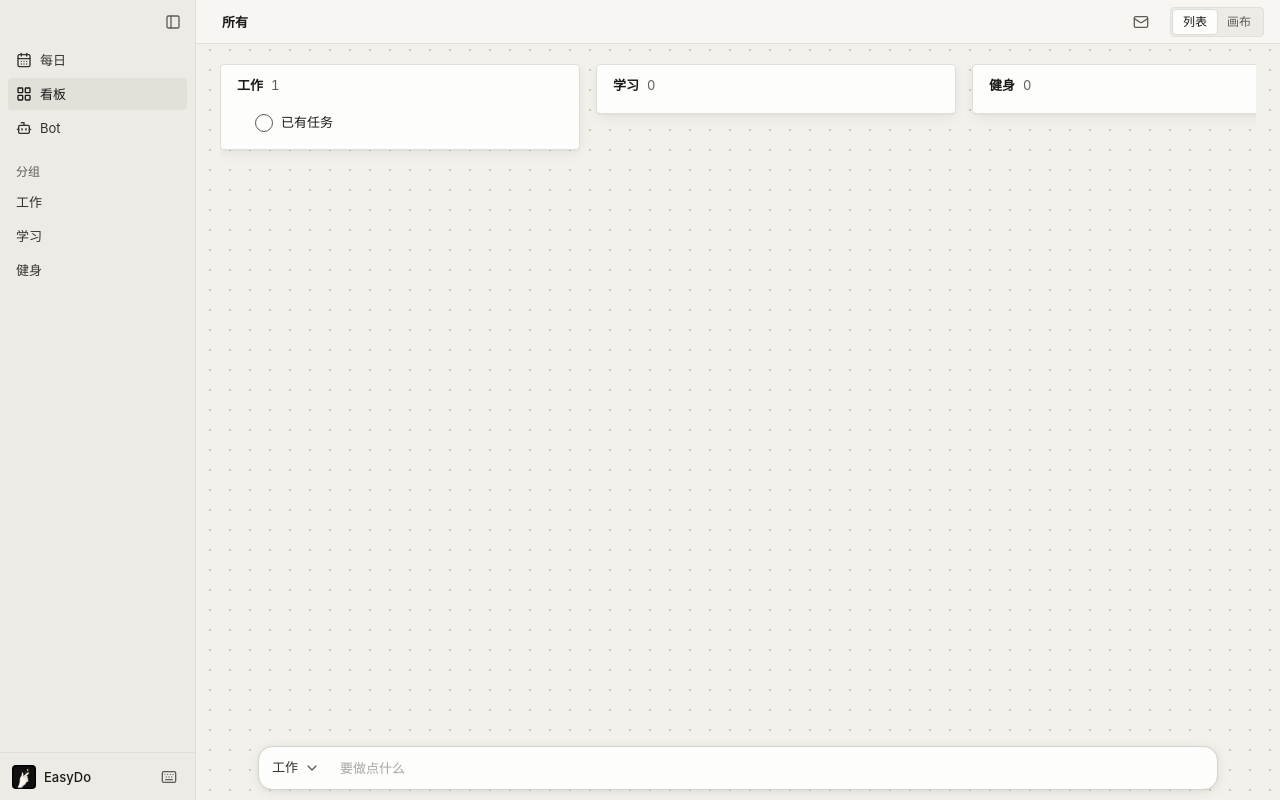
Test: BoardPage › turns the current editing line into a completed checklist item with Command Shift S
Check: the text "已有任务" is shown, box x1=281 y1=114 x2=333 y2=130
Double-click the button "已有任务": (294, 123) x1=255 y1=114 x2=333 y2=132
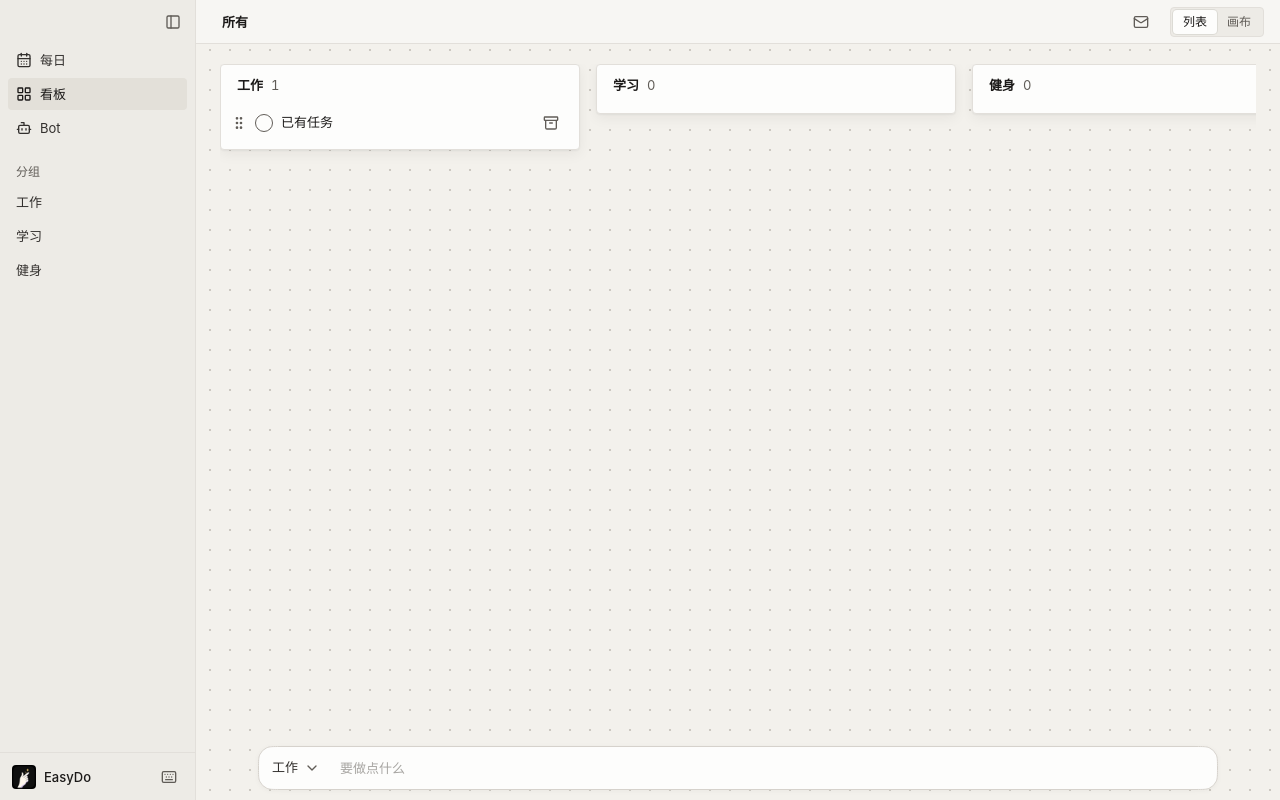
Press s in the text box showing "已有任务", box x1=281 y1=113 x2=529 y2=131
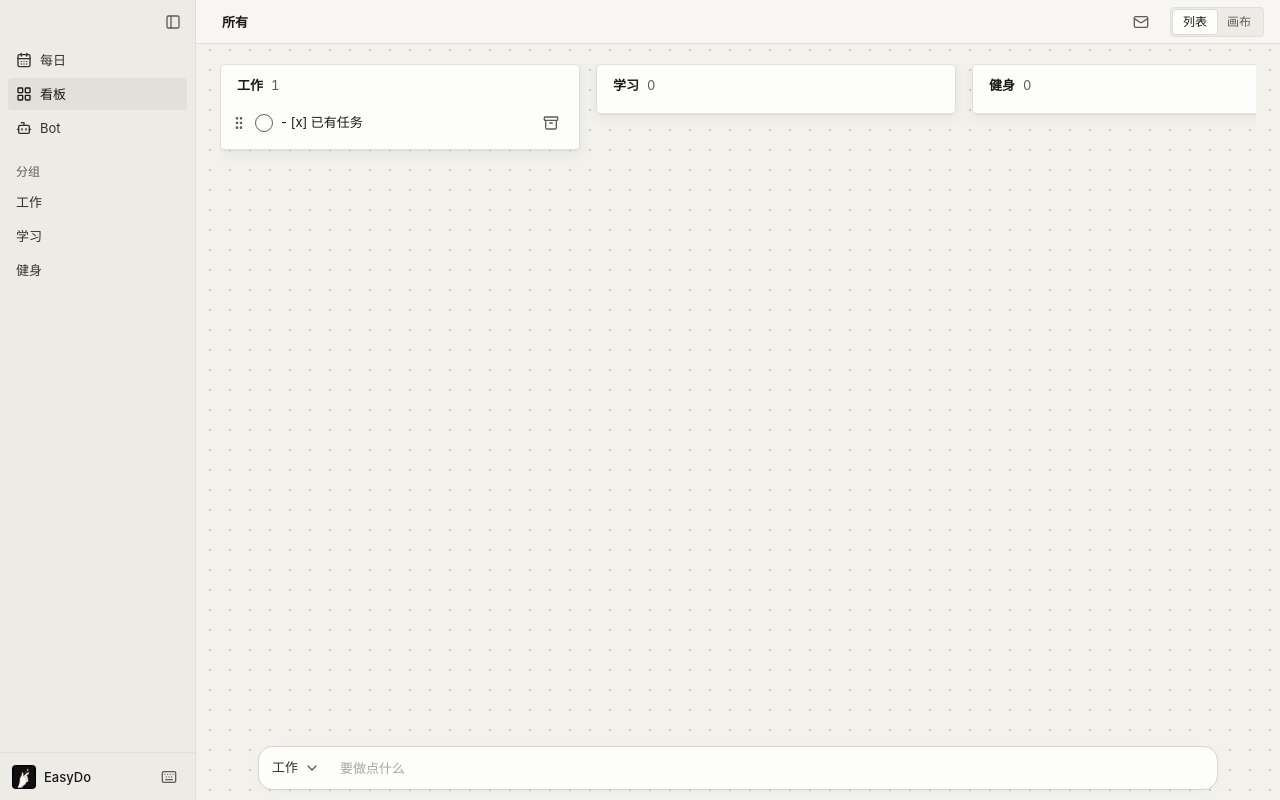
Check: the text box showing "- [x] 已有任务" is shown
Press Enter in the text box showing "- [x] 已有任务", box x1=281 y1=113 x2=529 y2=131
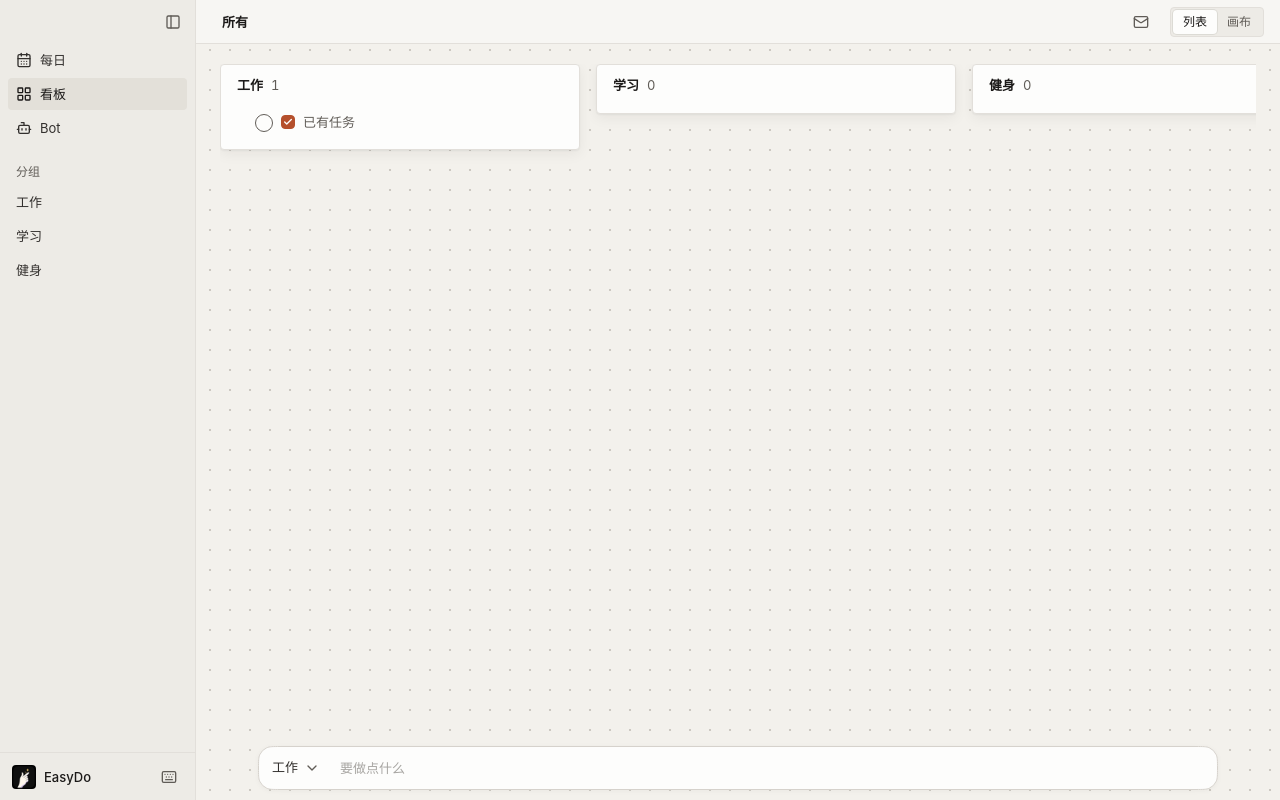
Check: the button titled "标记子任务未完成" is shown, box x1=281 y1=115 x2=295 y2=129
